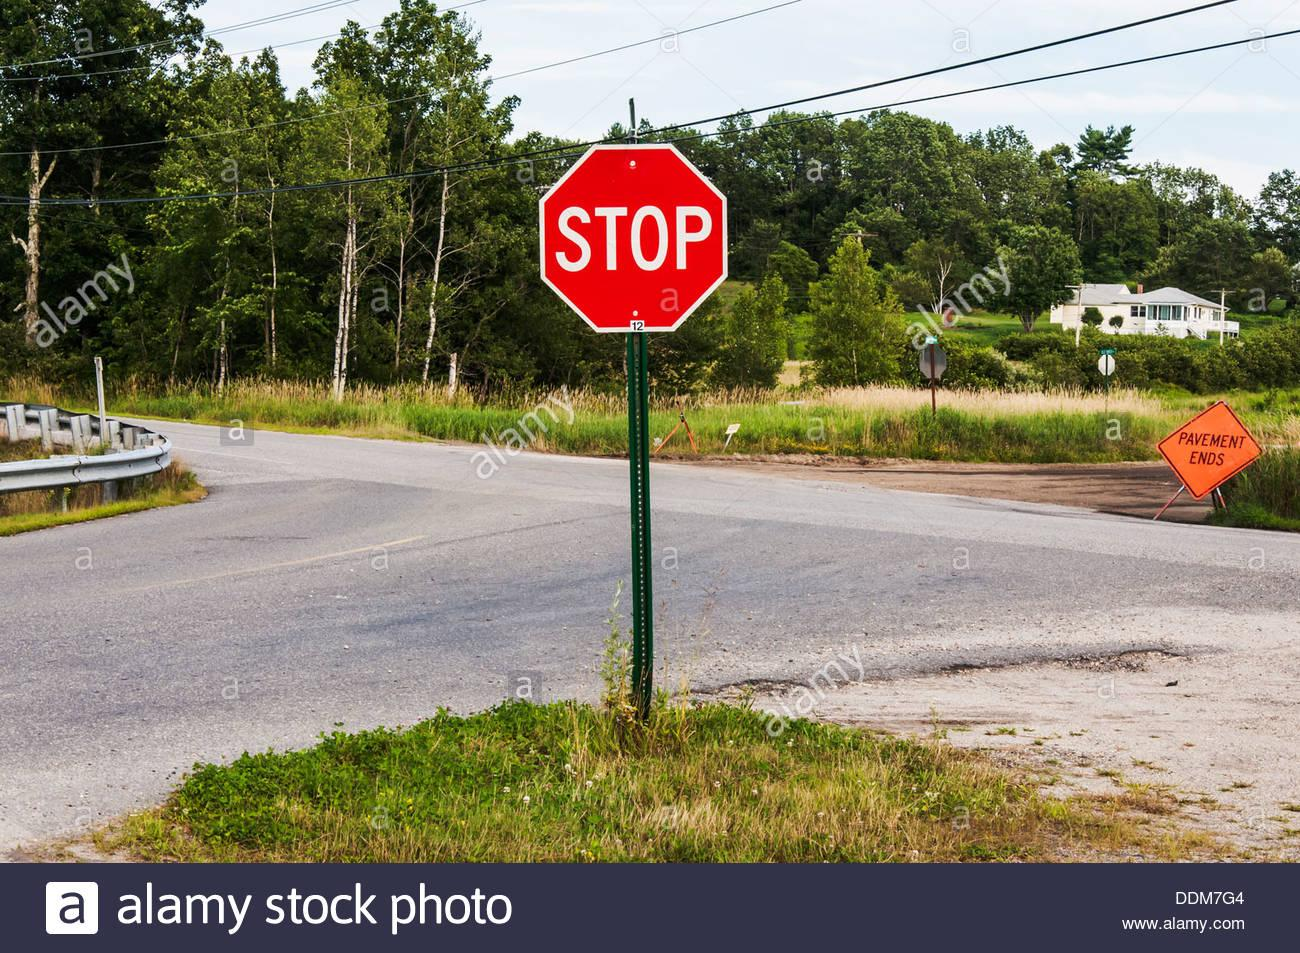Pole: (626, 335, 652, 711), (931, 379, 937, 422), (1105, 377, 1108, 393)
Sign: (539, 145, 728, 334), (916, 343, 948, 379), (1096, 354, 1116, 377)
